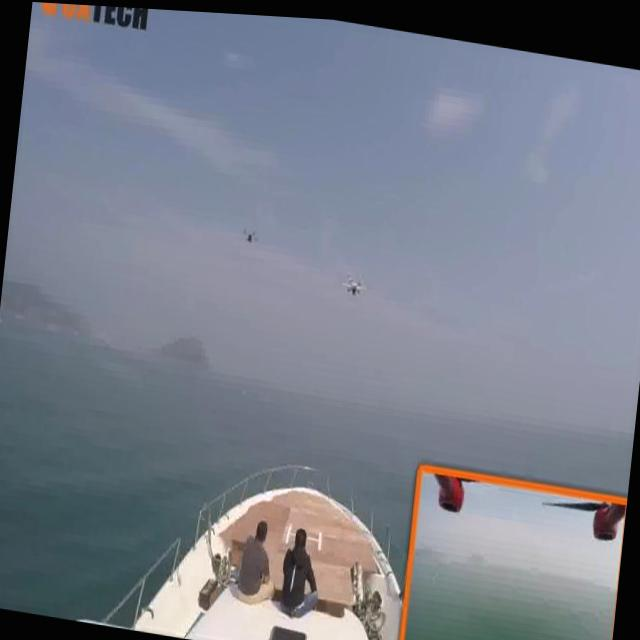drone: (337, 250, 378, 309), (235, 212, 266, 257)
